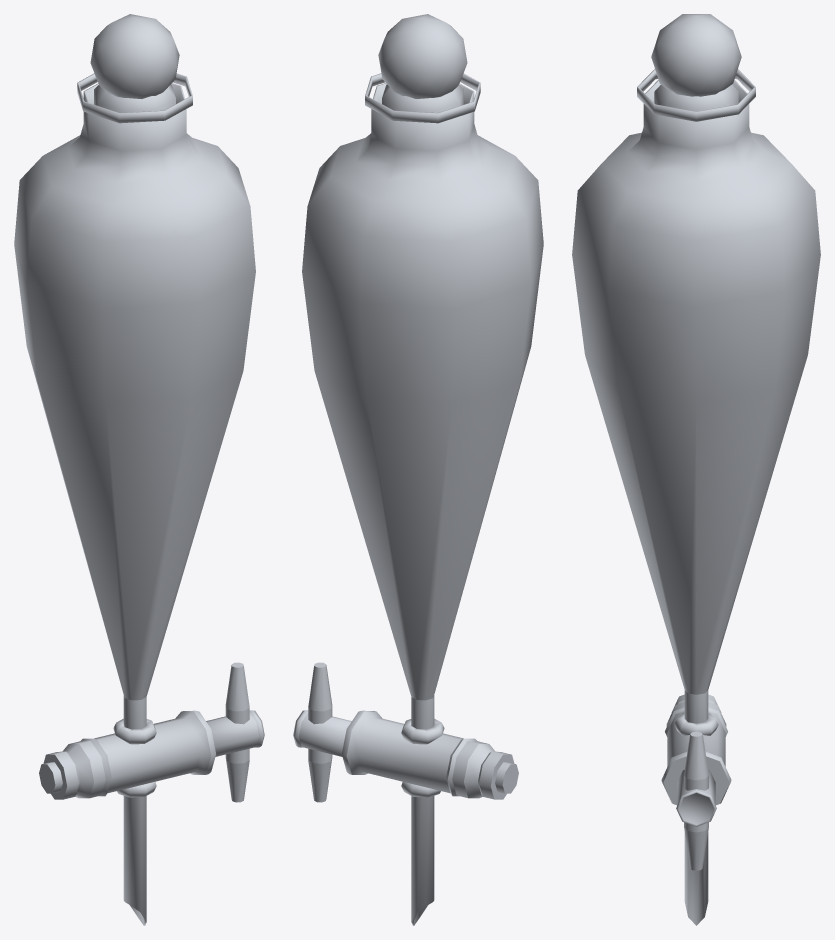
File: funnel_seperatory_funnel.fbx
3 renders of one model, left to right at view 1: azimuth 30°, elevation 25°; view 2: azimuth 150°, elevation 25°; view 3: azimuth 270°, elevation 25°, orthographic.
Visible parts, largest first — view 1: funnel_seperatory_funnel, funnel_seperatory_funnel_nozzle, funnel_seperatory_funnel_cap, funnel_seperatory_funnel_knob; view 2: funnel_seperatory_funnel, funnel_seperatory_funnel_nozzle, funnel_seperatory_funnel_cap, funnel_seperatory_funnel_knob; view 3: funnel_seperatory_funnel, funnel_seperatory_funnel_cap, funnel_seperatory_funnel_nozzle, funnel_seperatory_funnel_knob.
Part boxes in pixels (left/top/right/bottom): funnel_seperatory_funnel: left=14, top=73, right=255, bottom=925; funnel_seperatory_funnel_nozzle: left=39, top=710, right=264, bottom=799; funnel_seperatory_funnel_cap: left=90, top=14, right=179, bottom=112; funnel_seperatory_funnel_knob: left=225, top=662, right=249, bottom=802; funnel_seperatory_funnel: left=302, top=73, right=543, bottom=925; funnel_seperatory_funnel_nozzle: left=293, top=710, right=518, bottom=799; funnel_seperatory_funnel_cap: left=378, top=14, right=467, bottom=112; funnel_seperatory_funnel_knob: left=308, top=662, right=332, bottom=802; funnel_seperatory_funnel: left=572, top=69, right=820, bottom=925; funnel_seperatory_funnel_cap: left=651, top=14, right=741, bottom=111; funnel_seperatory_funnel_nozzle: left=661, top=694, right=731, bottom=826; funnel_seperatory_funnel_knob: left=684, top=731, right=708, bottom=870.
Size of the model in its own units: 2467 by 9390 by 2340.
1 material, 1 textured.
